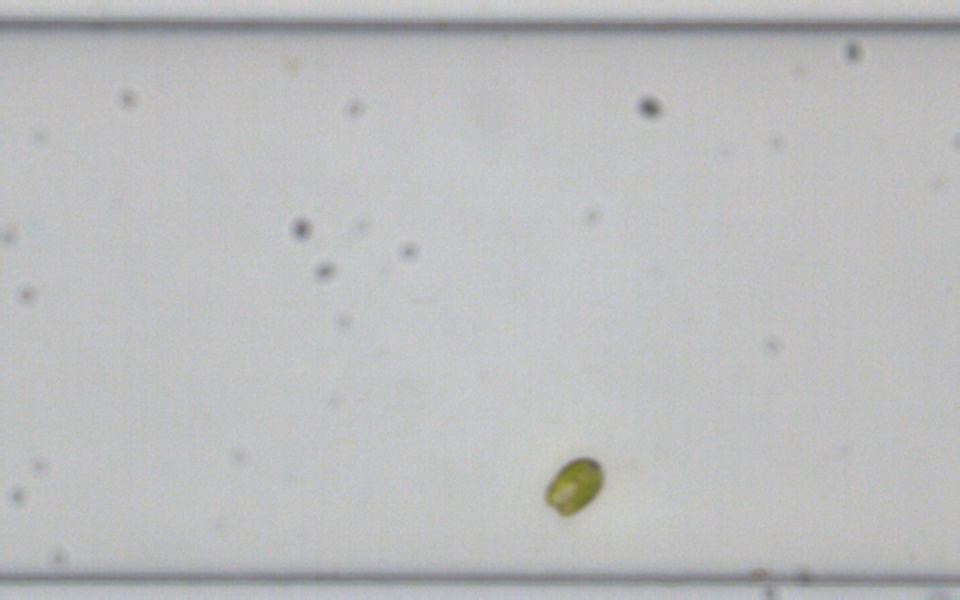Platymonas: (540, 453, 606, 519)
